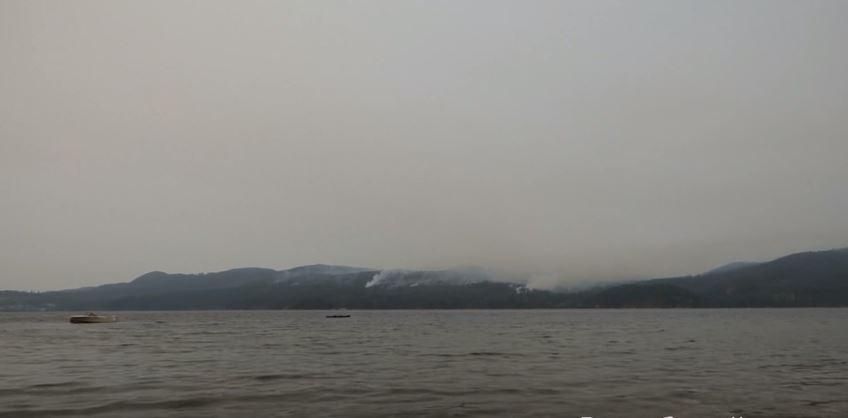smoke: (539, 124, 749, 273)
